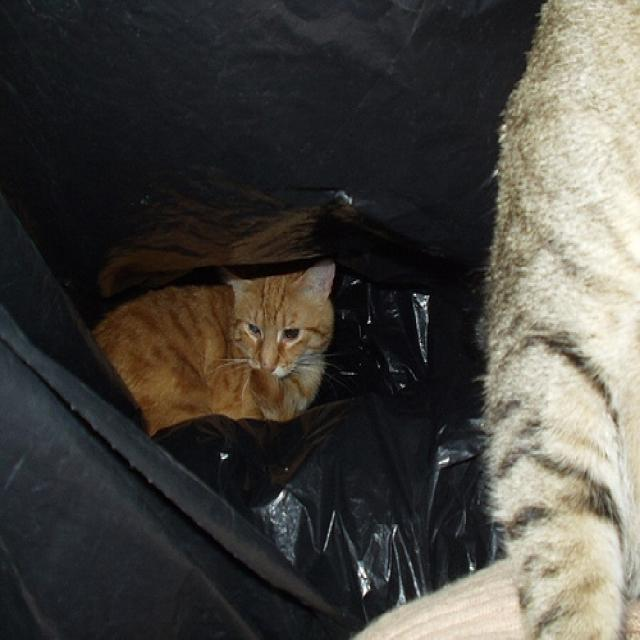cat: (478, 1, 639, 639), (81, 265, 337, 420)
